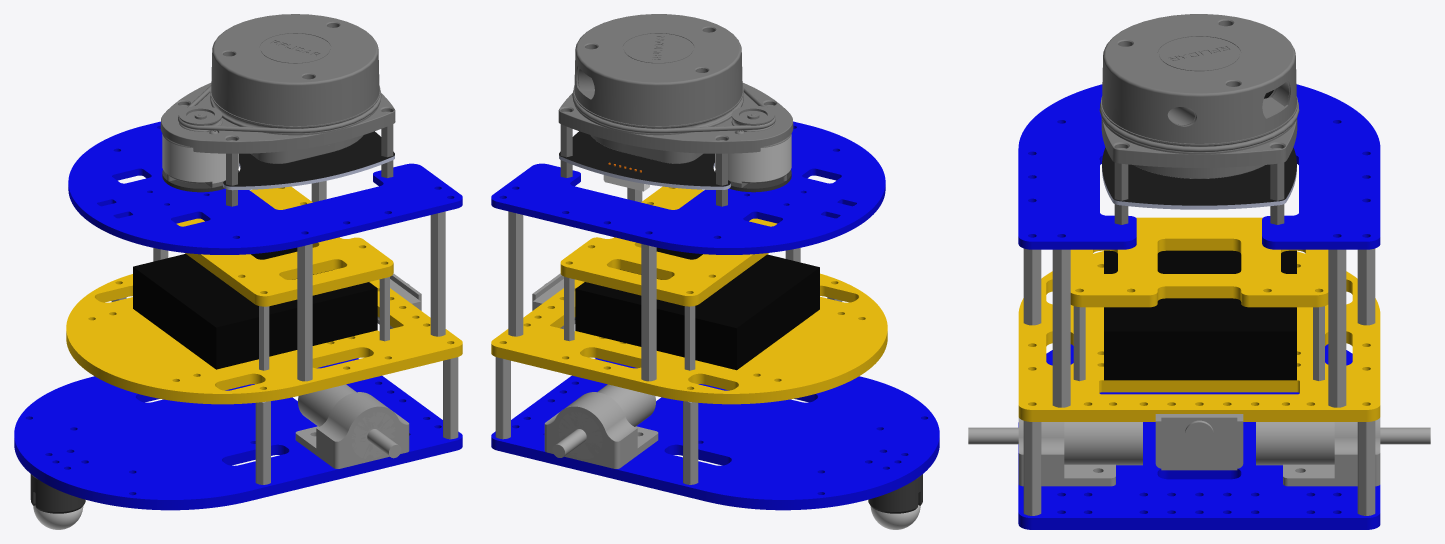
File: mbot-classic-simplied.dae
The picture shows the model from 3 angles, left to right: view 1: azimuth 30°, elevation 25°; view 2: azimuth 150°, elevation 25°; view 3: azimuth 270°, elevation 25°; orthographic projection. The views are drawn at different scales.
Visible parts, largest first — view 1: Bottom Plate, MBot-Mini_LIDAR_Plate_8up, MBot-Mini_Top_7up, head, Battery, MBot_RPi_Adapter v2, base, Motor Mount v7, devboard, 2.5 inch Female Threaded Hex Standoff v1 v1 (×2), DC Motor, 1.5 inch Female Threaded Hex Standoff v1 (×2) (+8 smaller); view 2: Bottom Plate, MBot-Mini_LIDAR_Plate_8up, MBot-Mini_Top_7up, head, Battery, MBot_RPi_Adapter v2, base, Motor Mount v7, devboard, 2.5 inch Female Threaded Hex Standoff v1 v1 (×2), DC Motor, 1.5 inch Female Threaded Hex Standoff v1 (×2) (+8 smaller); view 3: MBot-Mini_LIDAR_Plate_8up, MBot-Mini_Top_7up, head, Bottom Plate, Battery, MBot_RPi_Adapter v2, 2.5 inch Female Threaded Hex Standoff v1 v1 (×4), DC Motor (×2), Motor Mount v7 (×2), devboard, Arducam IMX219 - Jetson Nano v7, base (+8 smaller).
Boxes of the visible parts, bbox=[...] form: Bottom Plate: bbox=[14, 358, 462, 510]; MBot-Mini_LIDAR_Plate_8up: bbox=[68, 121, 462, 254]; MBot-Mini_Top_7up: bbox=[66, 274, 462, 404]; head: bbox=[211, 14, 379, 126]; Battery: bbox=[133, 247, 377, 369]; MBot_RPi_Adapter v2: bbox=[176, 186, 393, 306]; base: bbox=[160, 83, 395, 153]; Motor Mount v7: bbox=[295, 392, 409, 468]; devboard: bbox=[223, 131, 394, 190]; 2.5 inch Female Threaded Hex Standoff v1 v1 (×2): bbox=[297, 211, 445, 381]; DC Motor: bbox=[298, 384, 401, 458]; 1.5 inch Female Threaded Hex Standoff v1 (×2): bbox=[255, 357, 458, 484]; Bottom Plate: bbox=[491, 358, 939, 510]; MBot-Mini_LIDAR_Plate_8up: bbox=[491, 121, 885, 254]; MBot-Mini_Top_7up: bbox=[491, 273, 887, 404]; head: bbox=[574, 14, 742, 125]; Battery: bbox=[575, 247, 819, 370]; MBot_RPi_Adapter v2: bbox=[560, 186, 777, 306]; base: bbox=[558, 83, 793, 153]; Motor Mount v7: bbox=[544, 392, 658, 468]; devboard: bbox=[559, 131, 730, 189]; 2.5 inch Female Threaded Hex Standoff v1 v1 (×2): bbox=[508, 211, 656, 381]; DC Motor: bbox=[552, 384, 655, 458]; 1.5 inch Female Threaded Hex Standoff v1 (×2): bbox=[495, 357, 698, 484]; MBot-Mini_LIDAR_Plate_8up: bbox=[1018, 84, 1380, 249]; MBot-Mini_Top_7up: bbox=[1018, 251, 1380, 421]; head: bbox=[1102, 14, 1296, 143]; Bottom Plate: bbox=[1018, 344, 1380, 529]; Battery: bbox=[1104, 250, 1296, 380]; MBot_RPi_Adapter v2: bbox=[1070, 217, 1328, 307]; 2.5 inch Female Threaded Hex Standoff v1 v1 (×4): bbox=[1023, 248, 1375, 407]; DC Motor (×2): bbox=[968, 422, 1430, 465]; Motor Mount v7 (×2): bbox=[1018, 417, 1380, 486]; devboard: bbox=[1102, 147, 1296, 209]; Arducam IMX219 - Jetson Nano v7: bbox=[1155, 414, 1243, 470]; base: bbox=[1101, 118, 1297, 170].
Size of the model in its own units: 0.1796 by 0.166 by 0.1935.
